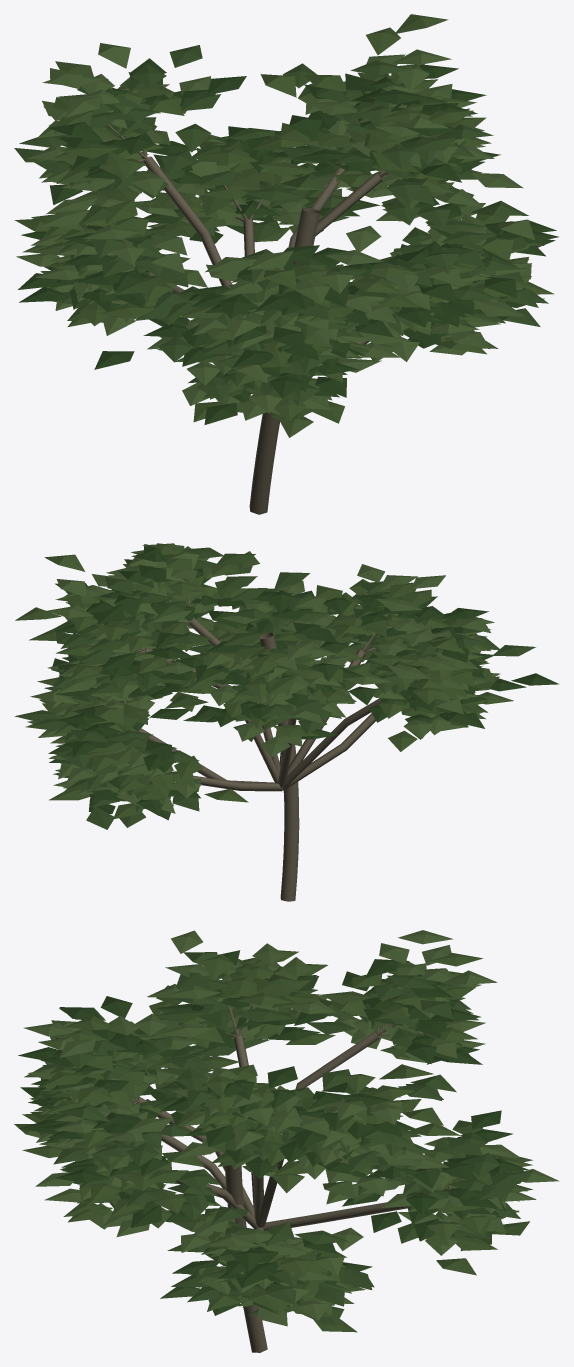
Rendered from prop_tropical_tree.glb.
The picture shows the model from 3 angles, top to bottom: view 1: azimuth 30°, elevation 25°; view 2: azimuth 150°, elevation 25°; view 3: azimuth 270°, elevation 25°; orthographic projection. The views are drawn at different scales.
Visible parts, largest first — view 1: base__art06_canopy_prop_tropical_tree, base__art06_weathered_bark; view 2: base__art06_canopy_prop_tropical_tree, base__art06_weathered_bark; view 3: base__art06_canopy_prop_tropical_tree, base__art06_weathered_bark.
Boxes of the visible parts, bbox=[...] form: base__art06_canopy_prop_tropical_tree: bbox=[14, 14, 558, 437]; base__art06_weathered_bark: bbox=[107, 122, 388, 514]; base__art06_canopy_prop_tropical_tree: bbox=[14, 543, 559, 829]; base__art06_weathered_bark: bbox=[123, 598, 423, 901]; base__art06_canopy_prop_tropical_tree: bbox=[14, 930, 559, 1332]; base__art06_weathered_bark: bbox=[131, 1005, 450, 1352].
Bounding box in the file's own units: 14.99 × 10.72 × 14.22.
